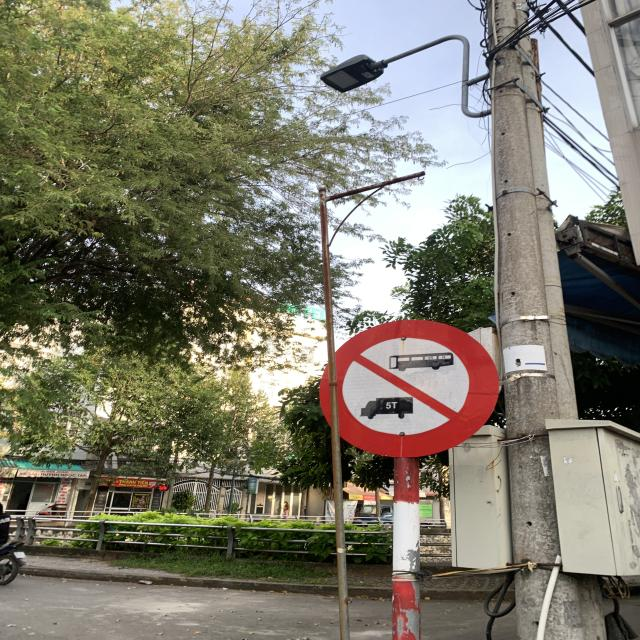Cam_XeTai_XeKhach: (320, 319, 499, 459)
